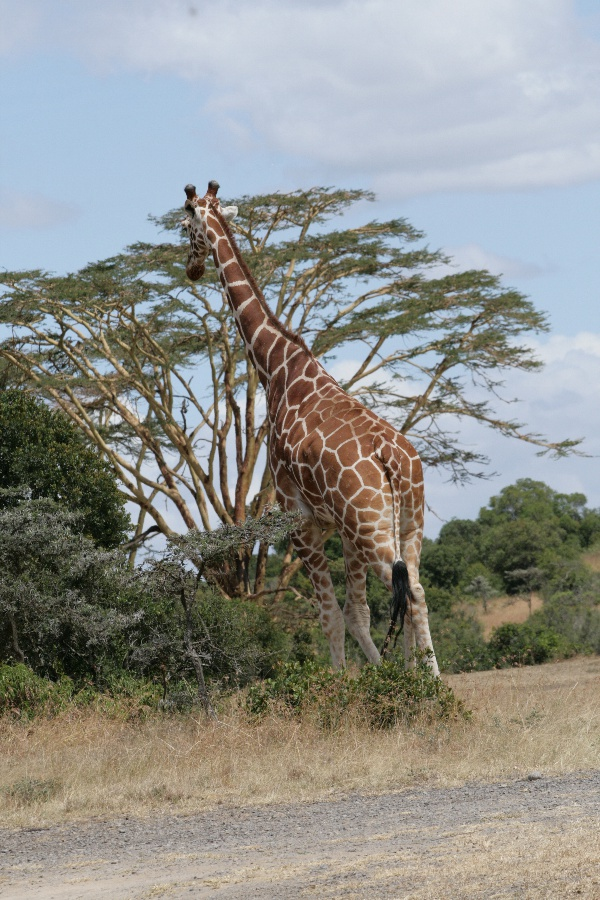giraffe: (169, 172, 453, 703)
